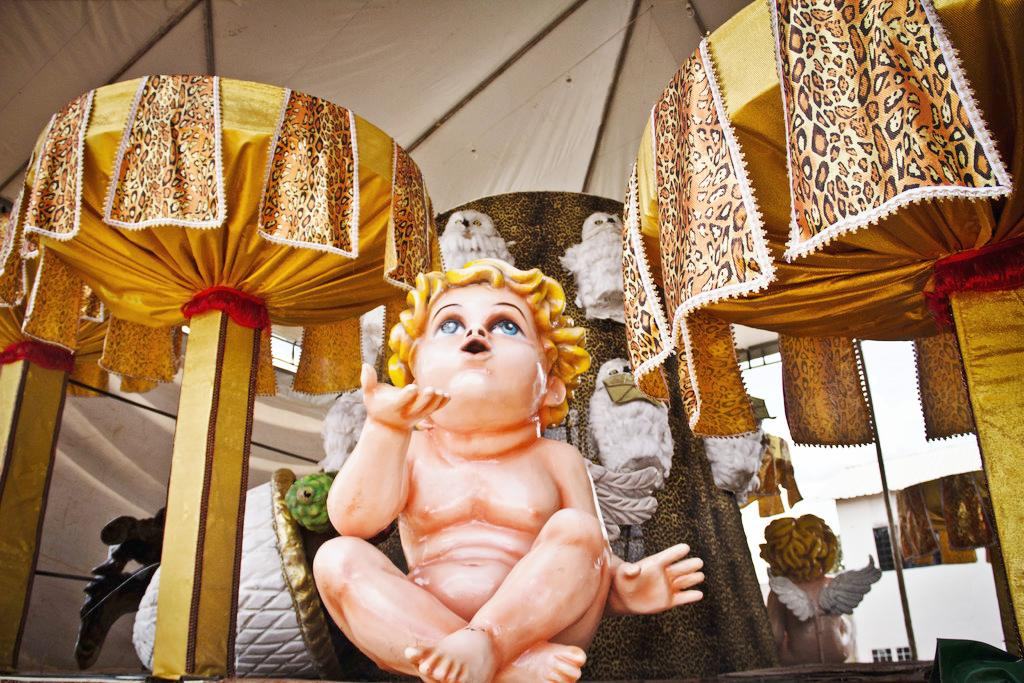Owl: (584, 358, 677, 496), (560, 212, 628, 326), (321, 384, 373, 478), (440, 208, 518, 270), (712, 438, 770, 496)
